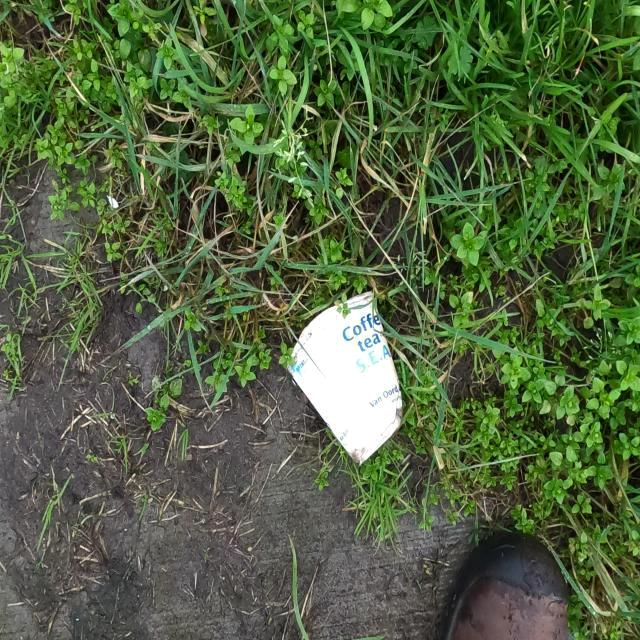Coffee Cup: (282, 286, 406, 470)
